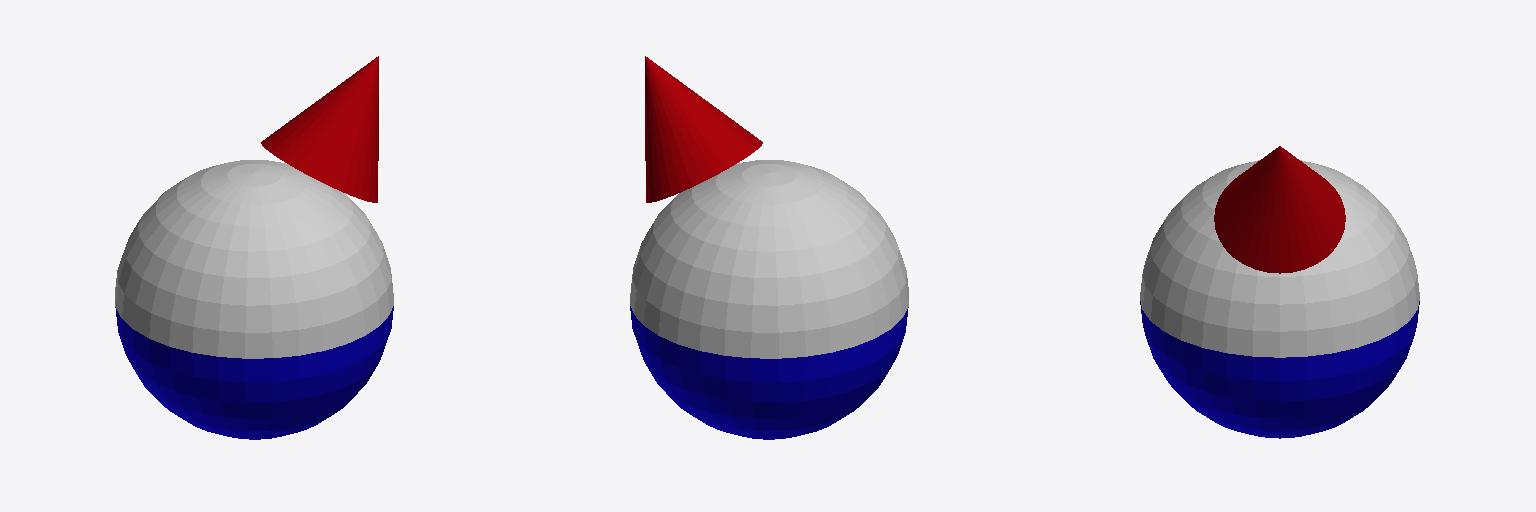
The model's file is testObj.obj.
3 renders of one model, left to right at view 1: azimuth 30°, elevation 25°; view 2: azimuth 150°, elevation 25°; view 3: azimuth 270°, elevation 25°, orthographic.
Parts seen in each view (by area): view 1: Blob, Cone_Cone.001; view 2: Blob, Cone_Cone.001; view 3: Blob, Cone_Cone.001.
Boxes of the visible parts, x1=… form: Blob: x1=115, y1=160, x2=393, y2=439; Cone_Cone.001: x1=261, y1=56, x2=378, y2=202; Blob: x1=630, y1=160, x2=908, y2=439; Cone_Cone.001: x1=645, y1=56, x2=762, y2=202; Blob: x1=1140, y1=160, x2=1419, y2=438; Cone_Cone.001: x1=1214, y1=146, x2=1345, y2=273.
Size of the model in its own units: 2.03 by 2.68 by 2.